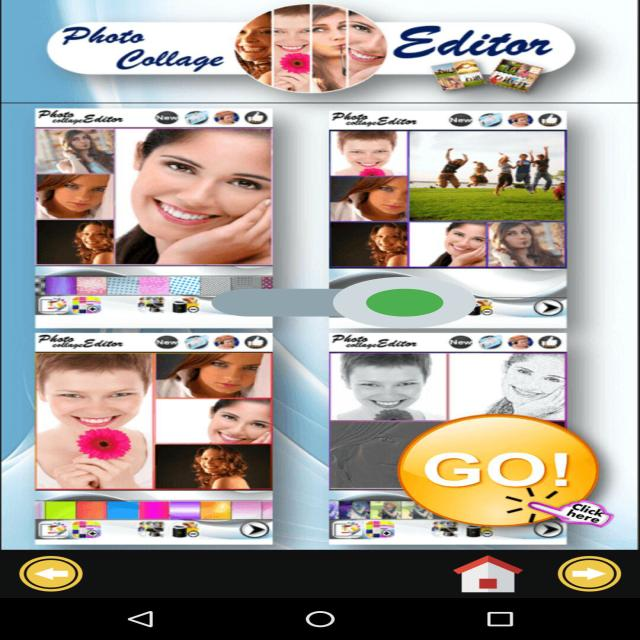social proof: (212, 255, 476, 350)
